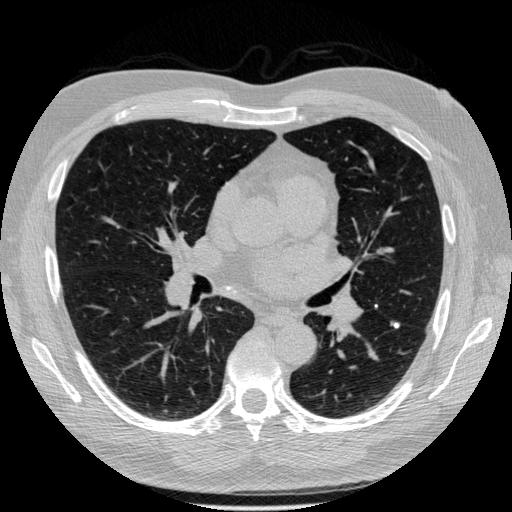nodule: (389, 319, 402, 332)
